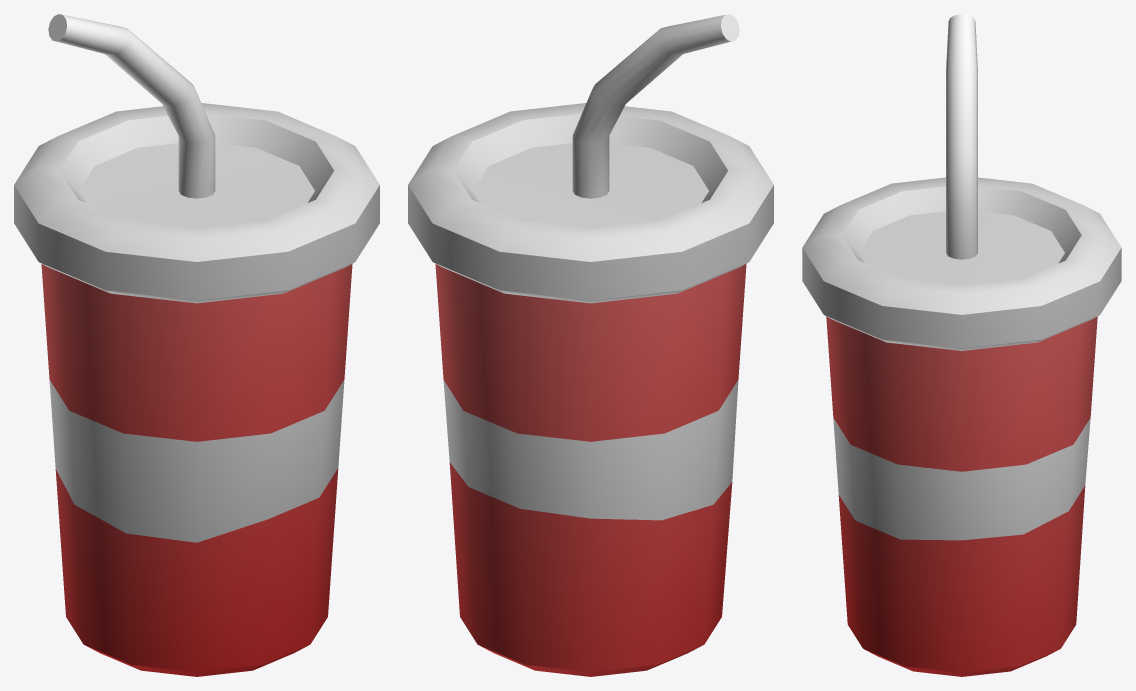
The model's file is Juice Cup_5.fbx.
3 renders of one model, left to right at view 1: azimuth 30°, elevation 25°; view 2: azimuth 150°, elevation 25°; view 3: azimuth 270°, elevation 25°, orthographic. The views are drawn at different scales.
Visible parts, largest first — view 1: Juice Cup_5, Juice Cup_5 Top; view 2: Juice Cup_5, Juice Cup_5 Top; view 3: Juice Cup_5, Juice Cup_5 Top.
Part boxes in pixels (x1,y1,x2,y2): Juice Cup_5: [41, 264, 352, 676]; Juice Cup_5 Top: [14, 14, 379, 303]; Juice Cup_5: [435, 264, 746, 676]; Juice Cup_5 Top: [408, 14, 773, 303]; Juice Cup_5: [826, 316, 1097, 676]; Juice Cup_5 Top: [802, 14, 1121, 350].
Bounding box in the file's own units: 0.0776 × 0.1515 × 0.0776.
Materials: 1 (1 with a texture image).
